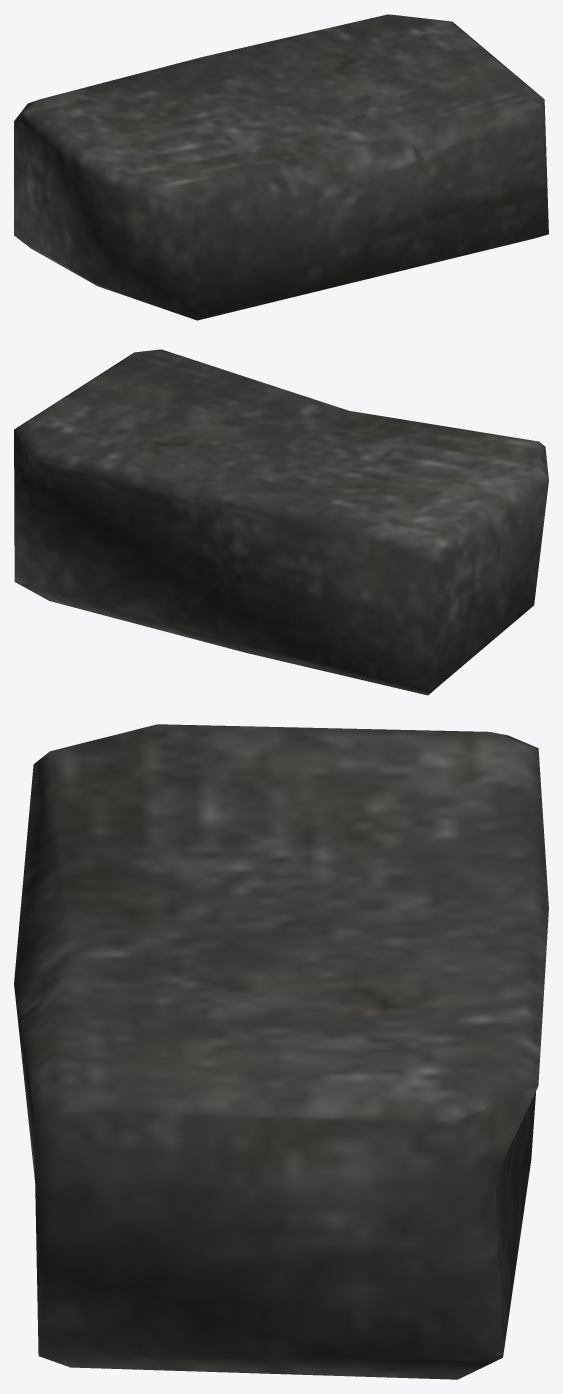
File: ConcBlock_04.FBX
3 renders of one model, top to bottom at view 1: azimuth 30°, elevation 25°; view 2: azimuth 150°, elevation 25°; view 3: azimuth 270°, elevation 25°, orthographic. The views are drawn at different scales.
Parts seen in each view (by area): view 1: ConcBlock_04; view 2: ConcBlock_04; view 3: ConcBlock_04.
Part boxes in pixels (box(x1,y1,x2,y2)): ConcBlock_04: box(14, 14, 548, 320); ConcBlock_04: box(14, 349, 548, 695); ConcBlock_04: box(14, 724, 548, 1379).
Size of the model in its own units: 44.96 by 15.98 by 25.81.
